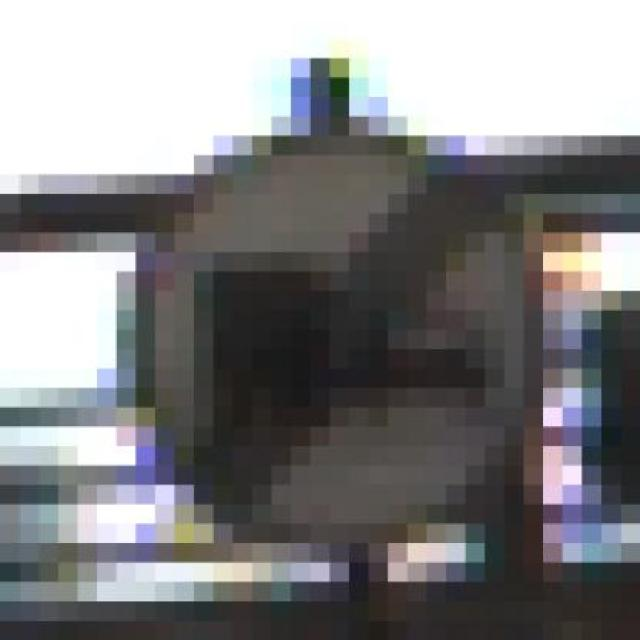Overtaking by trucks is prohibited: (58, 78, 582, 562)
